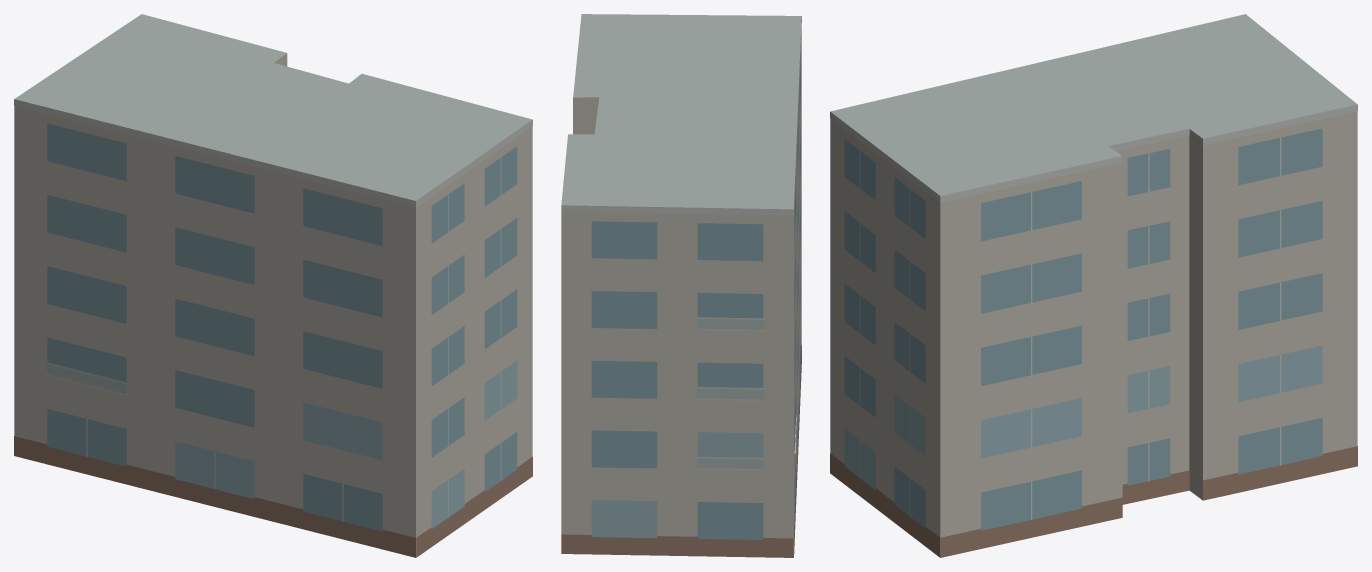
The model's file is survey-upis-32989788.glb.
3 views of the same model, side by side, from view 1: azimuth 30°, elevation 25°; view 2: azimuth 150°, elevation 25°; view 3: azimuth 270°, elevation 25° (orthographic). The views are drawn at different scales.
Visible parts, largest first — view 1: survey-upis-32989788.tmp; view 2: survey-upis-32989788.tmp; view 3: survey-upis-32989788.tmp.
Boxes of the visible parts, x1,y1,x2,y2 form: survey-upis-32989788.tmp: (14, 14, 532, 557); survey-upis-32989788.tmp: (561, 14, 801, 557); survey-upis-32989788.tmp: (830, 14, 1357, 557).
Bounding box in the file's own units: 14.04 × 13 × 17.19.
